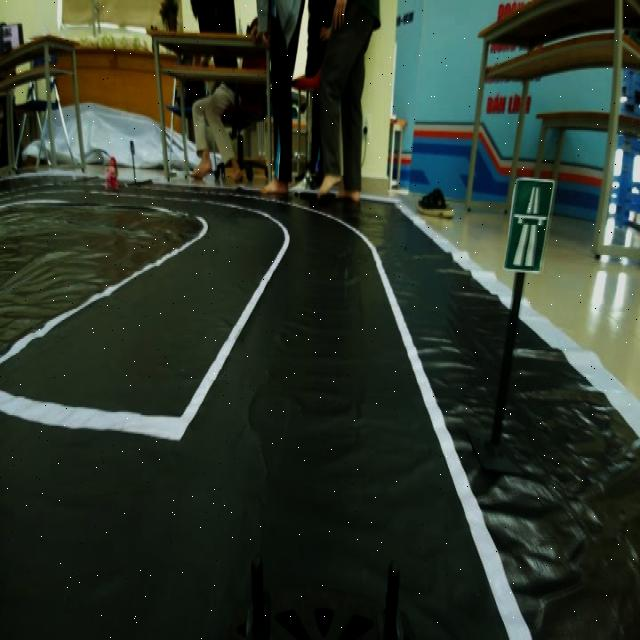highway_entry: (504, 166, 553, 276)
